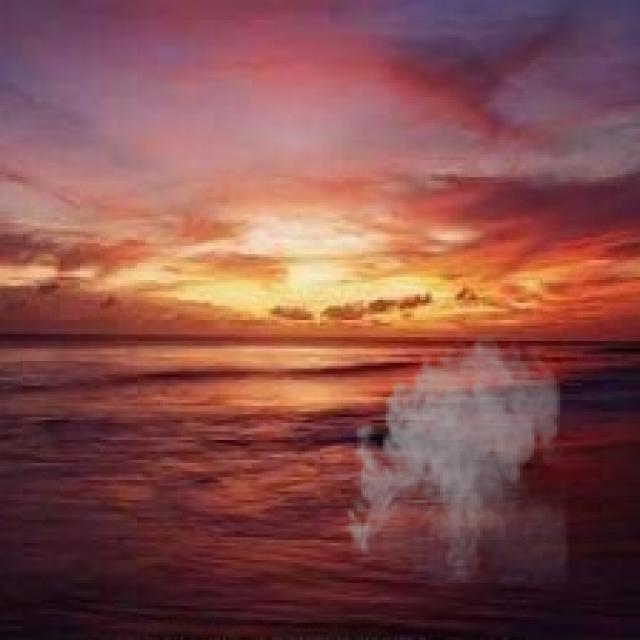Smoke: (341, 326, 568, 583)
